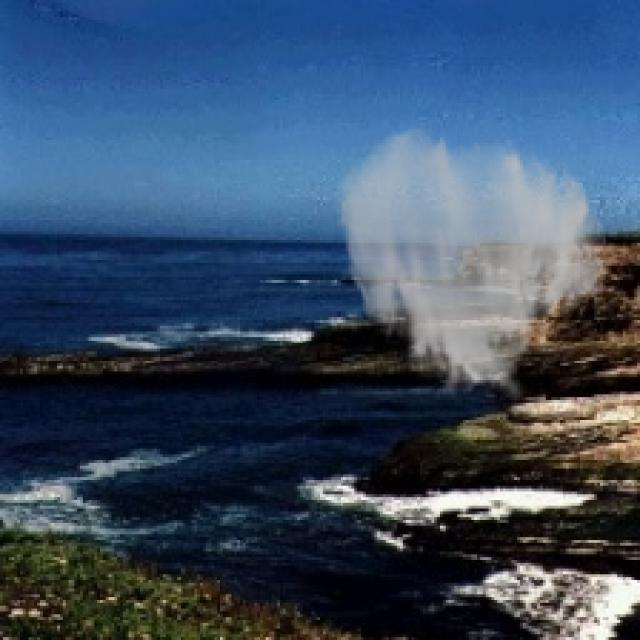smoke: (334, 123, 612, 406)
